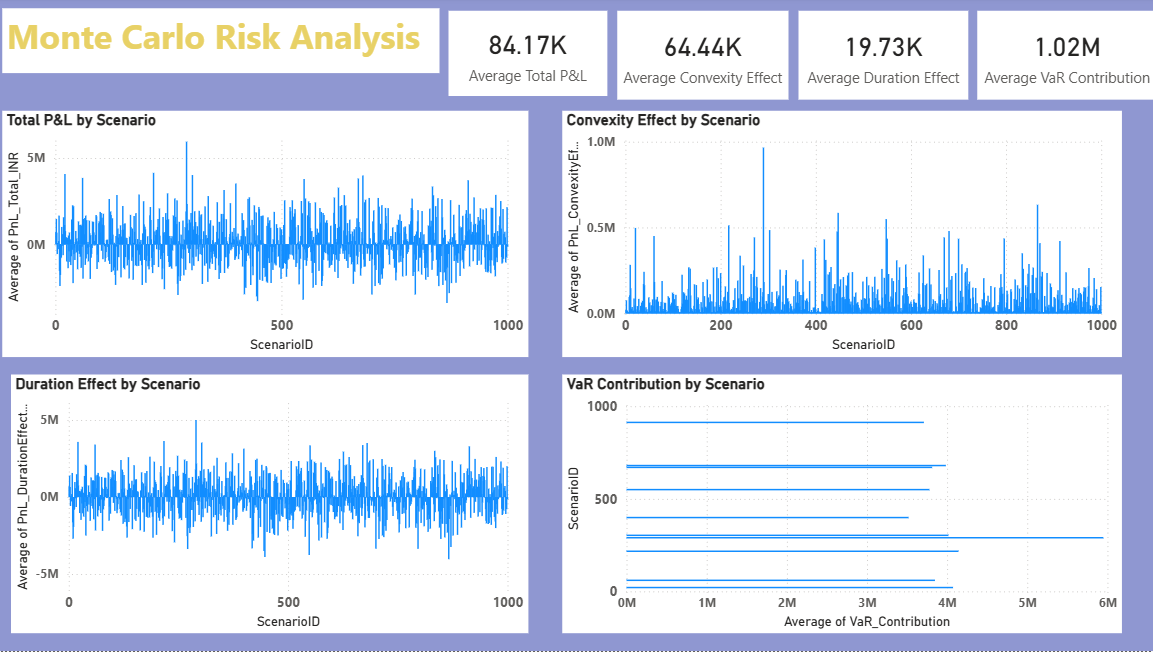

The page's visual inventory and layout, read from the dashboard file:
{"tool":"powerbi","page":{"name":"Monte Carlo Risk Analysis","canvas":[1280,720],"ordinal":2},"visuals":[{"type":"textbox","box":[12.3,12.3,480.3,71.4],"z":0},{"type":"card","fields":{"Values":["monte_carlo_scenarios.Average Duration Effect"]},"box":[886.5,15.1,186.6,97.4],"z":1},{"type":"card","fields":{"Values":["monte_carlo_scenarios.Average VaR Contribution"]},"box":[1082.7,15.1,197.6,97.4],"z":2},{"type":"card","fields":{"Values":["monte_carlo_scenarios.Average Convexity Effect"]},"box":[687.5,15.1,188,97.4],"z":3},{"type":"card","fields":{"Values":["monte_carlo_scenarios.Average Total P&L"]},"box":[502.2,15.1,174.3,93.3],"z":4},{"type":"clusteredColumnChart","title":"Total P&L by Scenario","fields":{"Category":["monte_carlo_scenarios.ScenarioID"],"Y":["Avg(monte_carlo_scenarios.PnL_Total_INR)"]},"box":[12.3,124.9,577.7,270.3],"z":5},{"type":"clusteredColumnChart","title":"Duration Effect by Scenario","fields":{"Category":["monte_carlo_scenarios.ScenarioID"],"Y":["Avg(monte_carlo_scenarios.PnL_DurationEffect_INR)"]},"box":[22,414.4,568.1,284],"z":6},{"type":"clusteredColumnChart","title":"Convexity Effect by Scenario","fields":{"Category":["monte_carlo_scenarios.ScenarioID"],"Y":["Avg(monte_carlo_scenarios.PnL_ConvexityEffect_INR)"]},"box":[627.1,124.9,614.8,270.3],"z":7},{"type":"clusteredBarChart","title":"VaR Contribution by Scenario","fields":{"Category":["monte_carlo_scenarios.ScenarioID"],"Y":["Avg(monte_carlo_scenarios.VaR_Contribution)"]},"box":[627.1,414.4,614.8,284],"z":8}]}

Visuals, with their boxes in screenshot pixels (x1, y1, x2, y2), scaled from the page's 1280x720 canvas onto the 1153x652 screenshot:
textbox: rect(11, 11, 444, 76)
card - monte_carlo_scenarios.Average Duration Effect: rect(799, 14, 967, 102)
card - monte_carlo_scenarios.Average VaR Contribution: rect(975, 14, 1152, 102)
card - monte_carlo_scenarios.Average Convexity Effect: rect(619, 14, 789, 102)
card - monte_carlo_scenarios.Average Total P&L: rect(452, 14, 609, 98)
"Total P&L by Scenario" clusteredColumnChart: rect(11, 113, 531, 358)
"Duration Effect by Scenario" clusteredColumnChart: rect(20, 375, 532, 632)
"Convexity Effect by Scenario" clusteredColumnChart: rect(565, 113, 1119, 358)
"VaR Contribution by Scenario" clusteredBarChart: rect(565, 375, 1119, 632)
